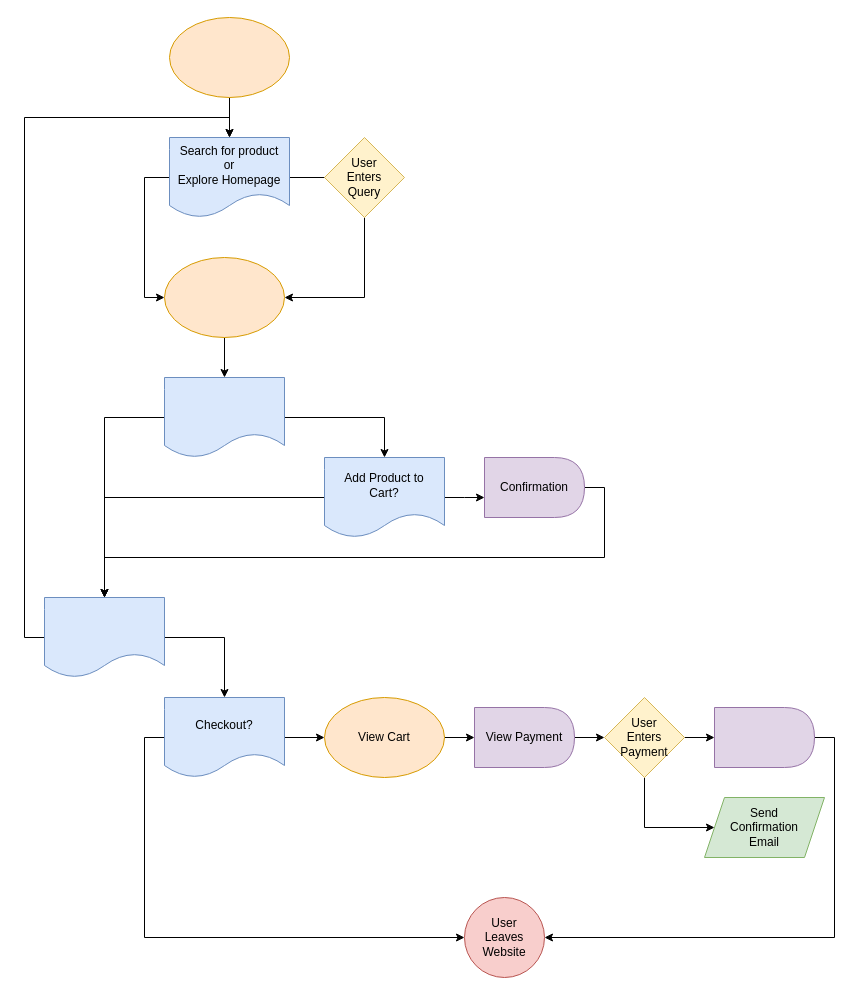
This 860x995 diagram has some shape labels left out. Here are the shapes that lost their labels. From the top down, the centre of each, then its label:
(x=229, y=57): User enters website
(x=224, y=297): Display products to User
(x=224, y=417): View Product?
(x=104, y=637): Continue Shopping?
(x=764, y=737): Order Confirmation
